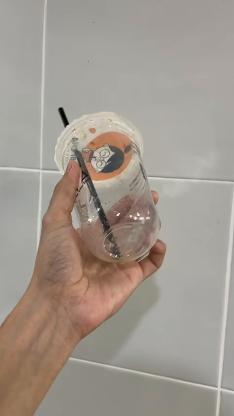Plastic Cup: (55, 112, 161, 264)
